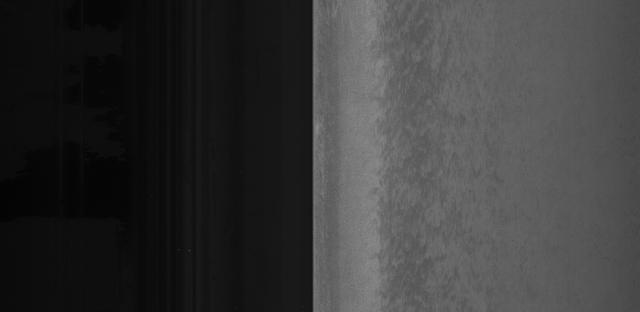silk_spot: (359, 30, 445, 230)
